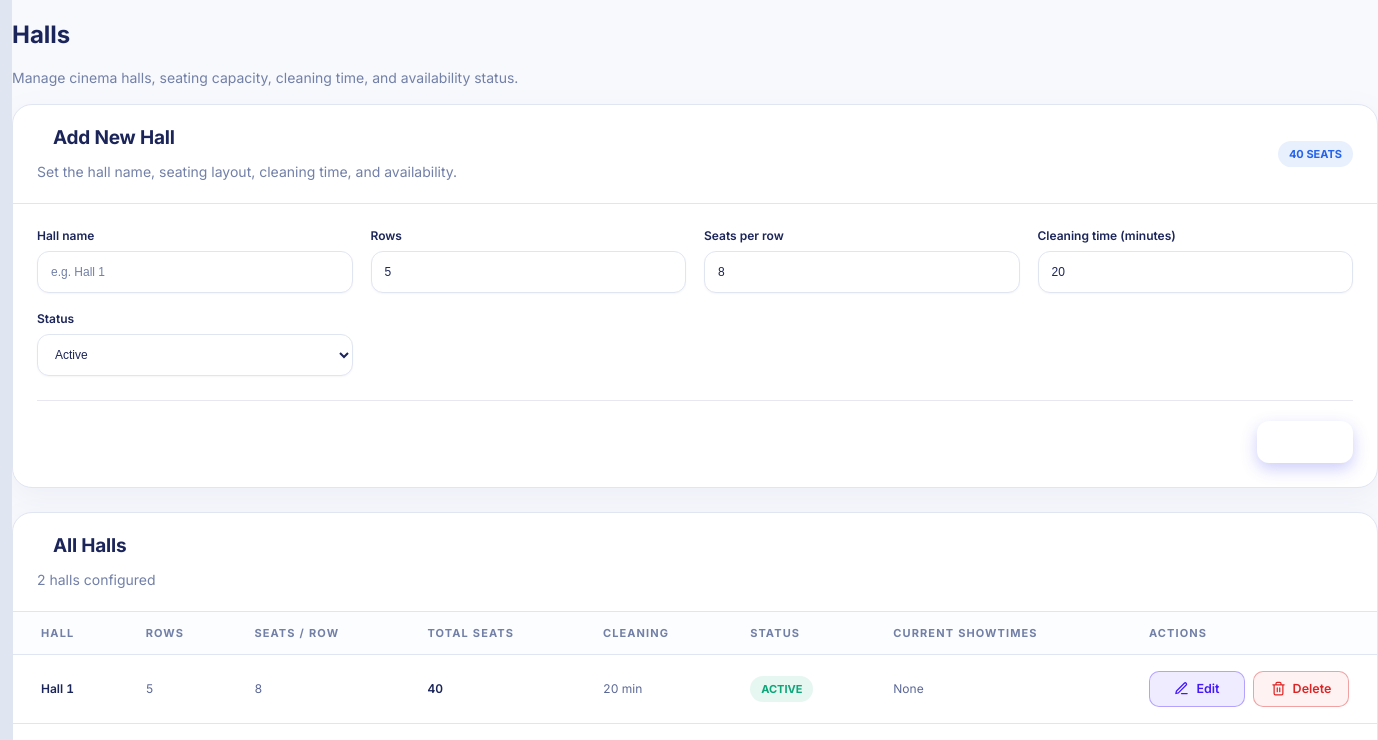
Halls Admin Page › should cancel editing and reset the form
Expected: the text "Hall 1" is shown, left=13, top=655, right=126, bottom=724
Click the button "Edit" in the row of "Hall 1" at coordinates (1197, 689), box left=1149, top=671, right=1245, bottom=707
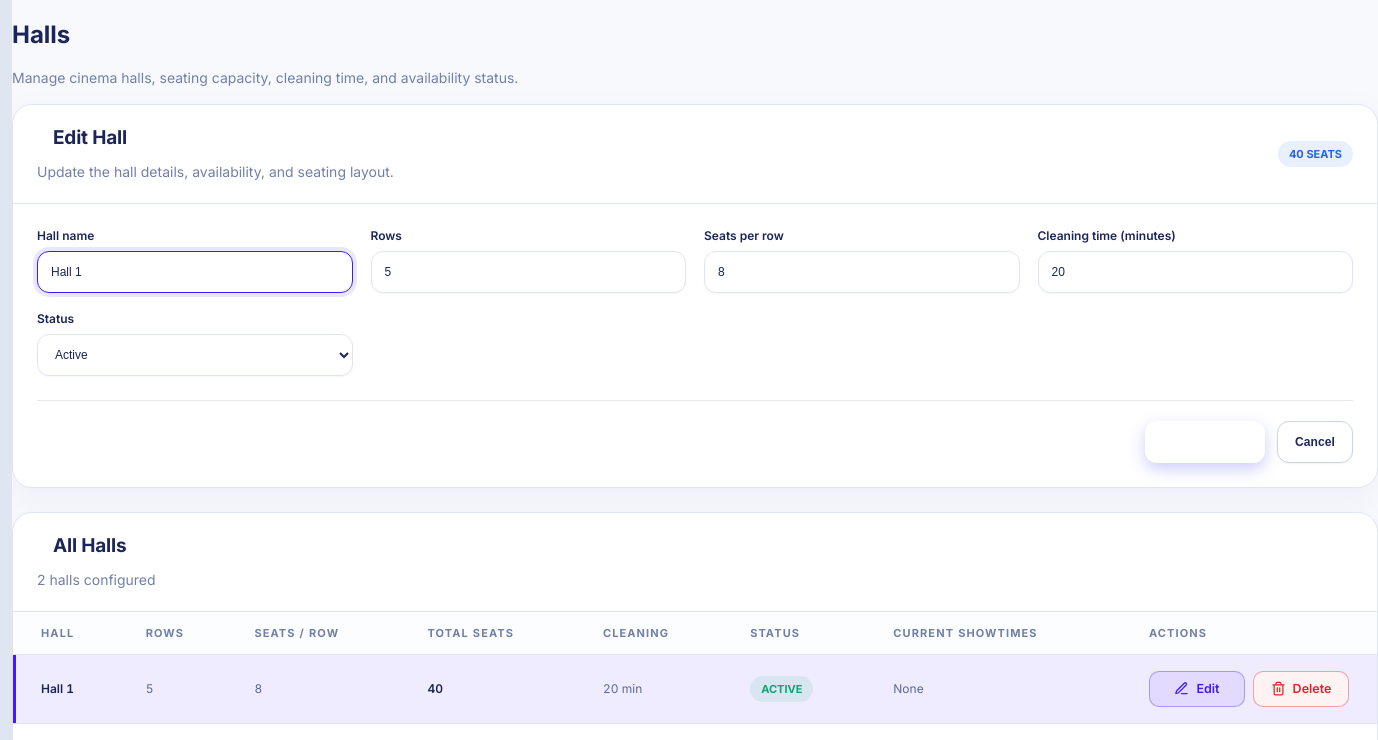
Click the button "Cancel" at coordinates (1315, 442), box left=1277, top=421, right=1353, bottom=463
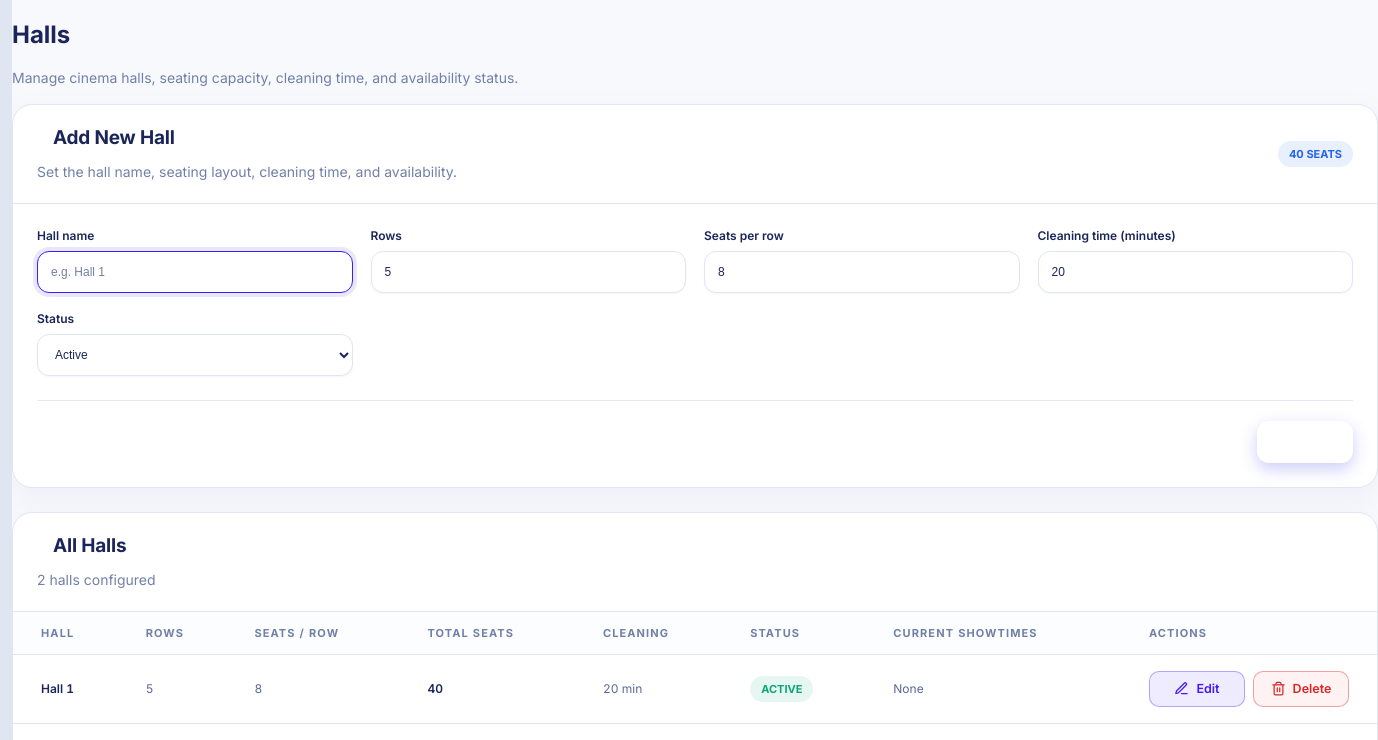
Expected: the number field labelled "Rows" holds "5", left=370, top=251, right=686, bottom=293
Expected: the heading "Add New Hall" is shown, left=53, top=126, right=175, bottom=149
Expected: the field labelled "Hall name" is empty, left=37, top=251, right=352, bottom=293
